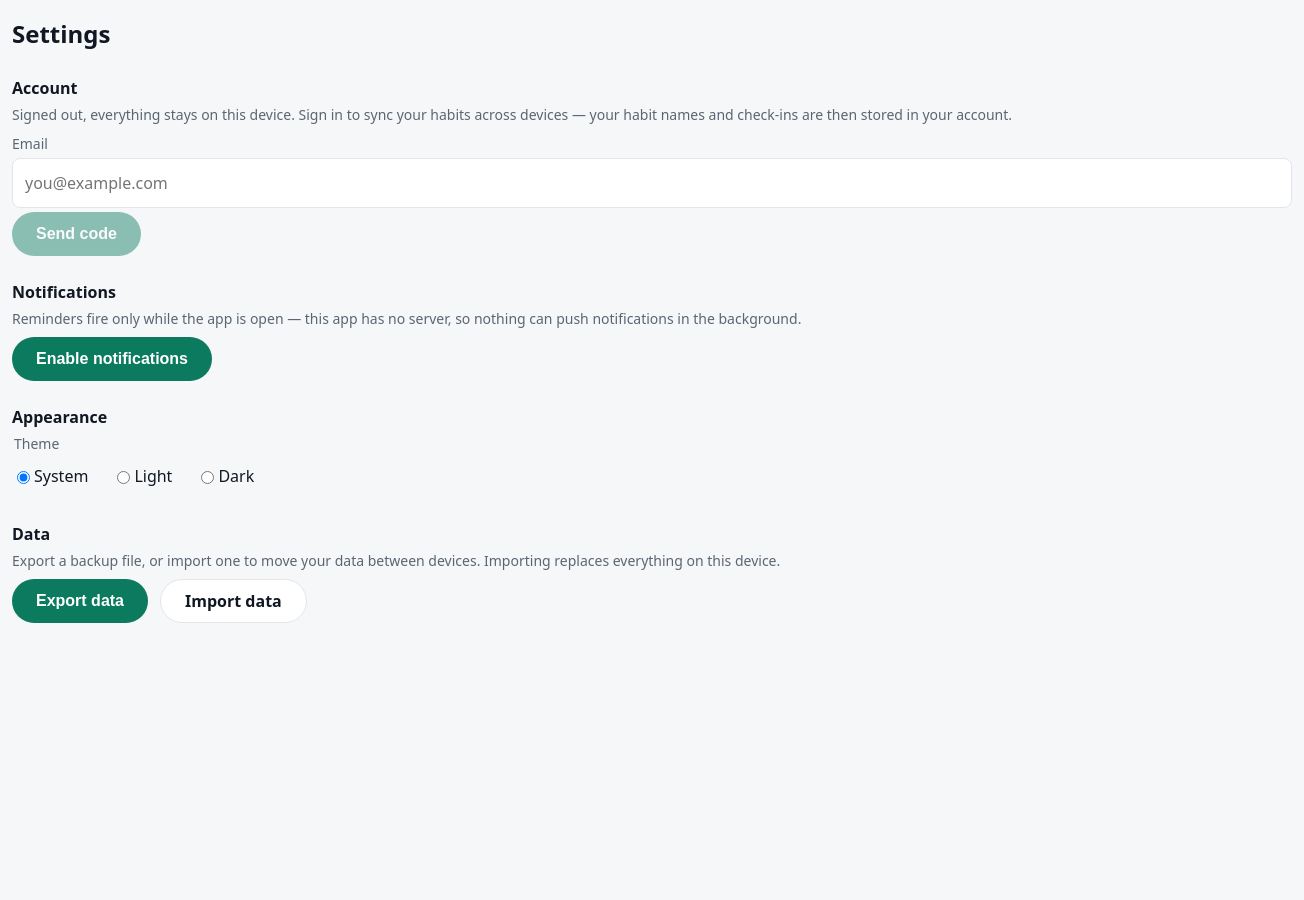
Test: account section, signed out › sending a code swaps the email field for a code field
The image size is (1304, 900).
Type "me@example.com" into the field labelled "Email". click: [652, 183]
box: [12, 158, 1292, 208]
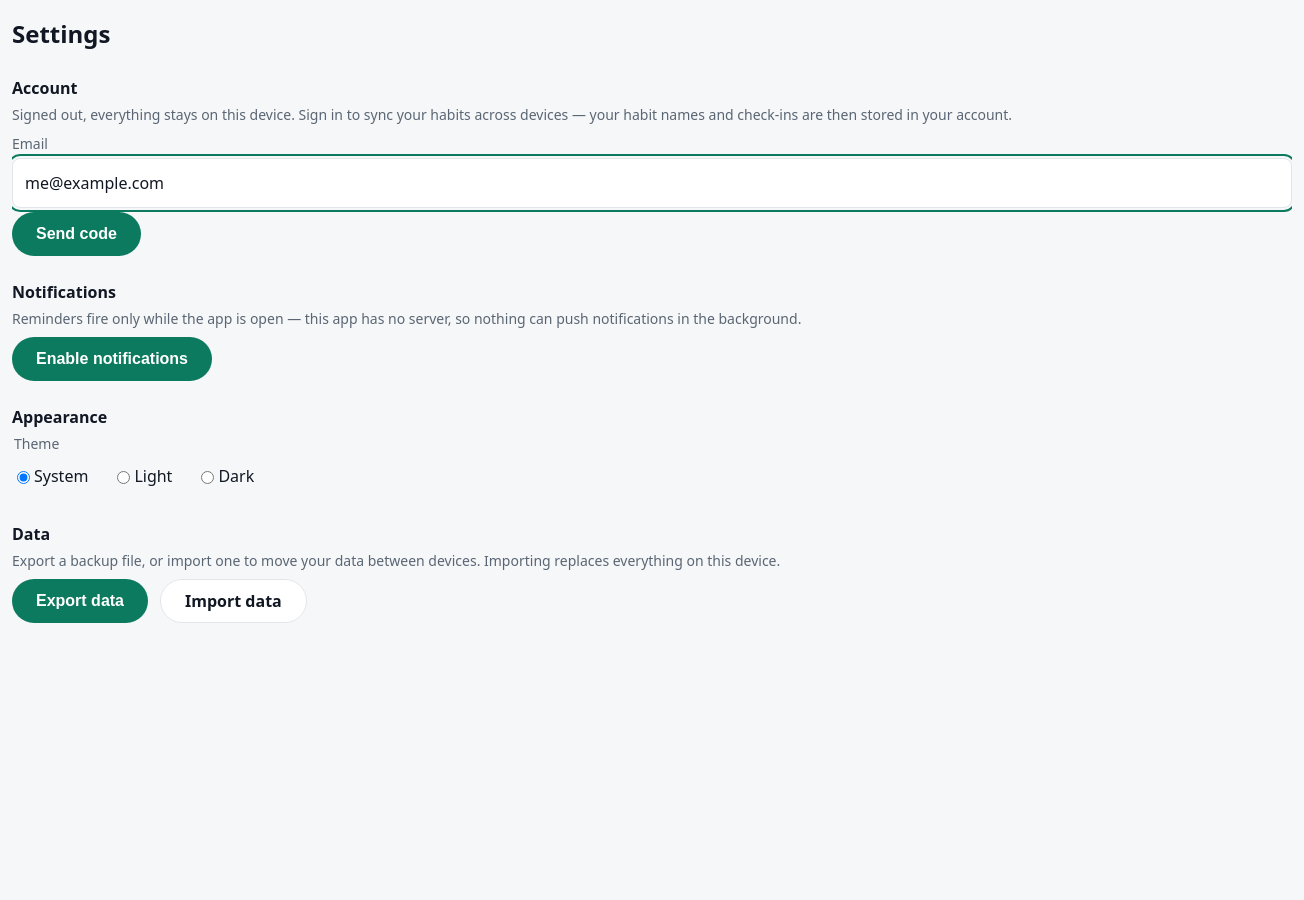
Click the button "Send code". click: [76, 234]
box: [12, 212, 141, 256]
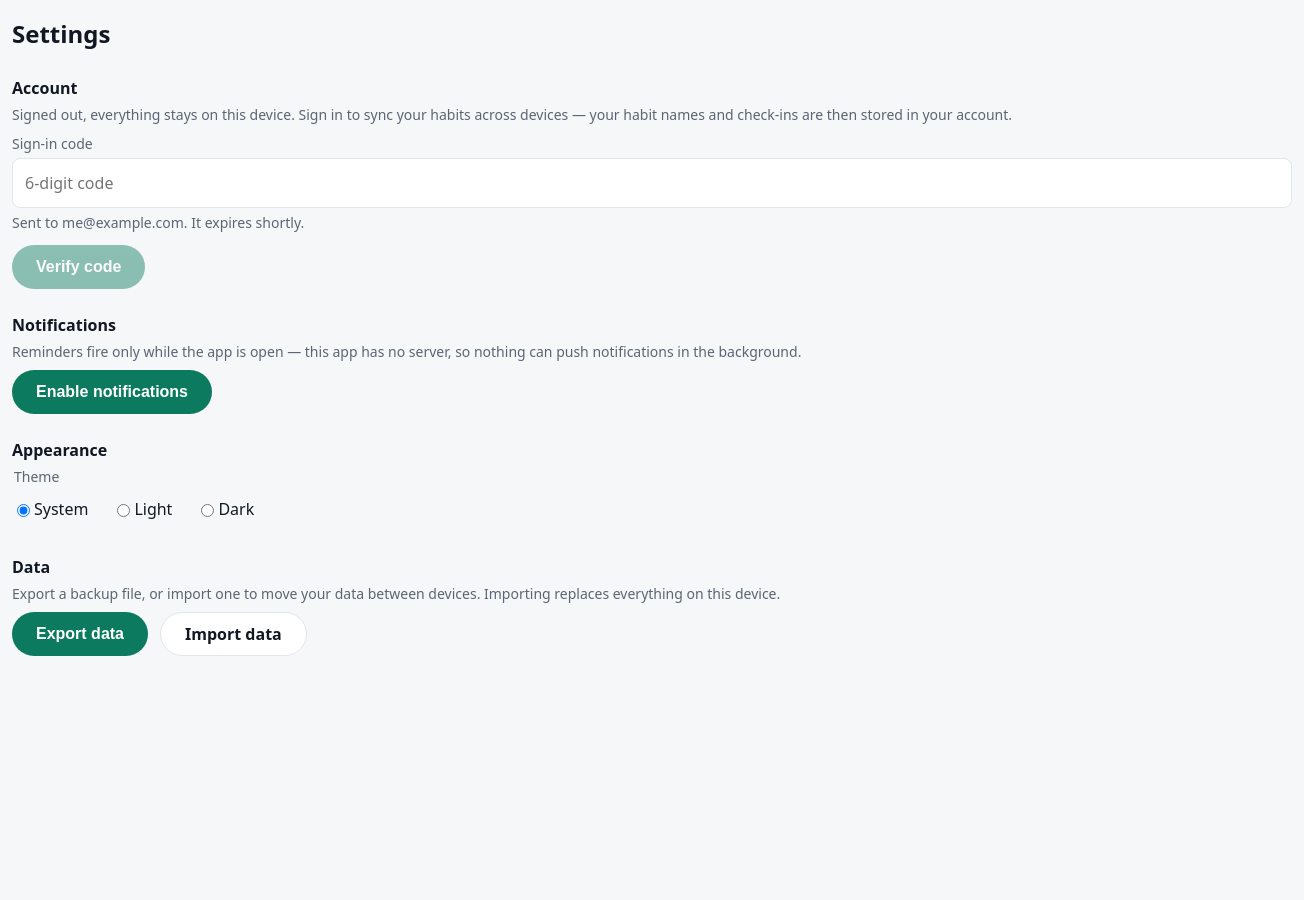
Expected: the field labelled "Sign-in code" is shown, [12, 158, 1292, 208]
Now the button "Send code" is gone
